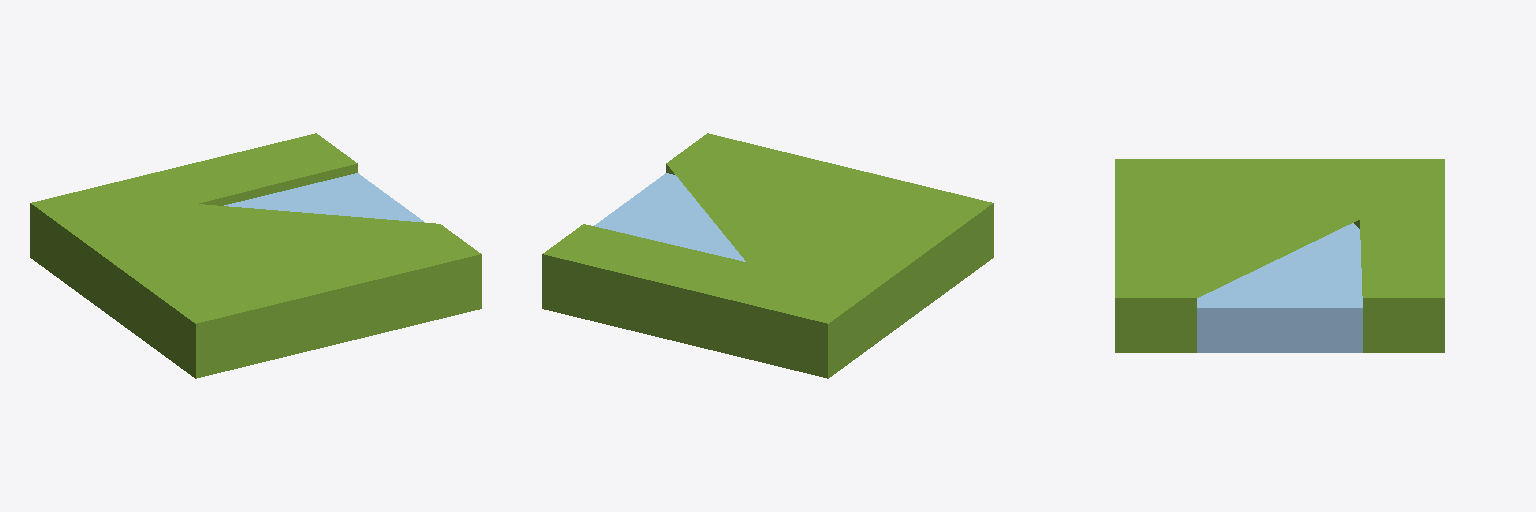
3 views of the same model, side by side, from view 1: azimuth 30°, elevation 25°; view 2: azimuth 150°, elevation 25°; view 3: azimuth 270°, elevation 25° (orthographic).
Parts seen in each view (by area): view 1: roadTile_158.001; view 2: roadTile_158.001; view 3: roadTile_158.001.
Part boxes in pixels (bbox=[...]): roadTile_158.001: bbox=[30, 133, 481, 378]; roadTile_158.001: bbox=[542, 133, 993, 378]; roadTile_158.001: bbox=[1115, 159, 1444, 352].
Bounding box in the file's own units: 3 × 0.55 × 3.